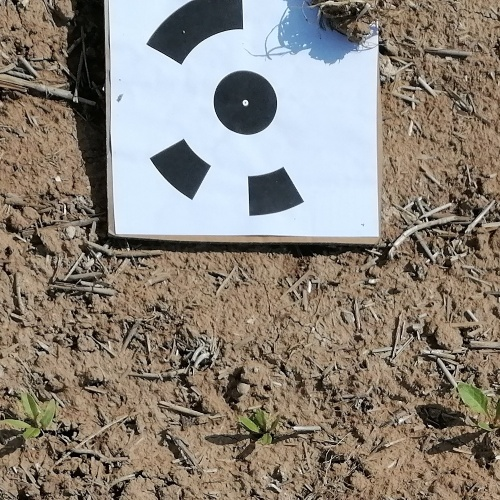beet: (0, 392, 56, 440), (458, 384, 500, 433), (241, 410, 280, 446)
